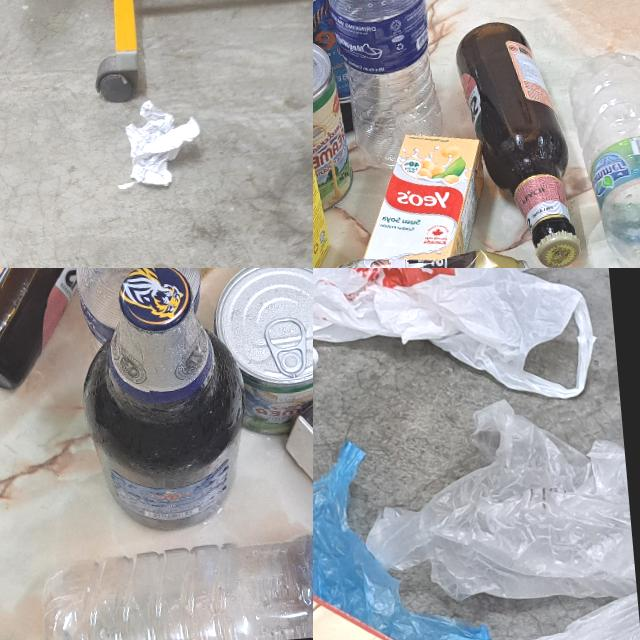aba de lata: (270, 318, 308, 377)
caixinha: (354, 128, 492, 266), (265, 295, 313, 528)
garrafa de vidro: (71, 268, 250, 536), (454, 17, 581, 268), (0, 268, 180, 393)
garrafa plástica: (34, 519, 313, 640), (322, 0, 446, 174), (565, 46, 640, 268), (75, 268, 206, 366)
lata: (218, 268, 313, 436), (313, 32, 354, 221)
papel: (106, 90, 208, 198)
sacola plástica: (352, 386, 638, 618), (313, 268, 602, 424), (313, 429, 492, 640), (472, 586, 640, 640)
